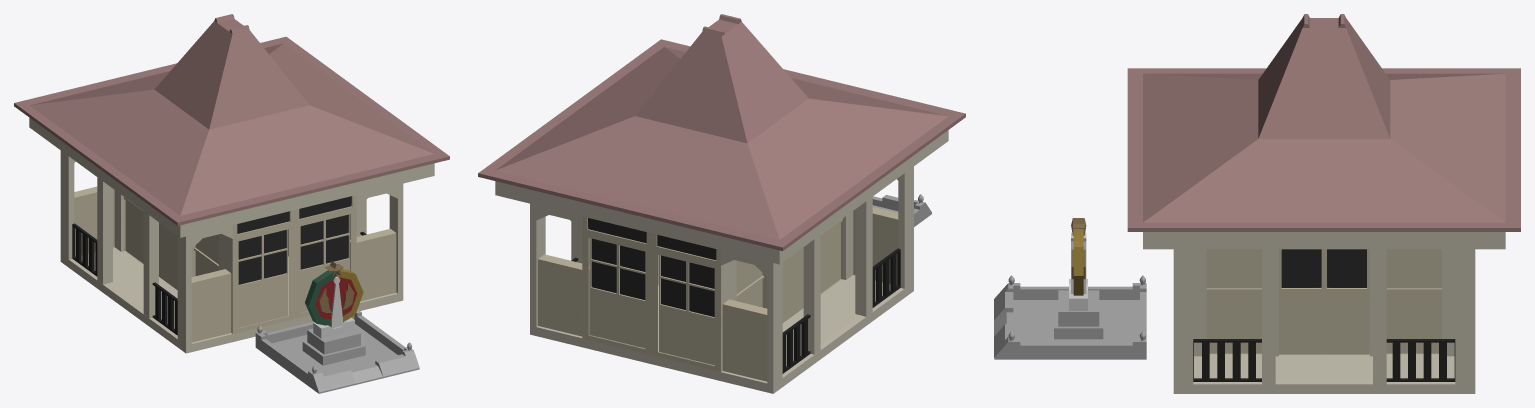
File: Komplek_Kepatihan.fbx
3 renders of one model, left to right at view 1: azimuth 30°, elevation 25°; view 2: azimuth 150°, elevation 25°; view 3: azimuth 270°, elevation 25°, orthographic. The views are drawn at different scales.
Visible parts, largest first — view 1: Dewan Kerajinan Nasional DIY, Logo Tugu Yoygakarta; view 2: Dewan Kerajinan Nasional DIY, Logo Tugu Yoygakarta; view 3: Dewan Kerajinan Nasional DIY, Logo Tugu Yoygakarta.
Boxes of the visible parts, bbox=[...] form: Dewan Kerajinan Nasional DIY: bbox=[14, 14, 449, 353]; Logo Tugu Yoygakarta: bbox=[255, 261, 419, 393]; Dewan Kerajinan Nasional DIY: bbox=[478, 14, 965, 393]; Logo Tugu Yoygakarta: bbox=[872, 194, 931, 226]; Dewan Kerajinan Nasional DIY: bbox=[1127, 14, 1520, 393]; Logo Tugu Yoygakarta: bbox=[994, 218, 1146, 359].
Size of the model in its own units: 378 by 344 by 527.
Materials: 1 (1 with a texture image).
